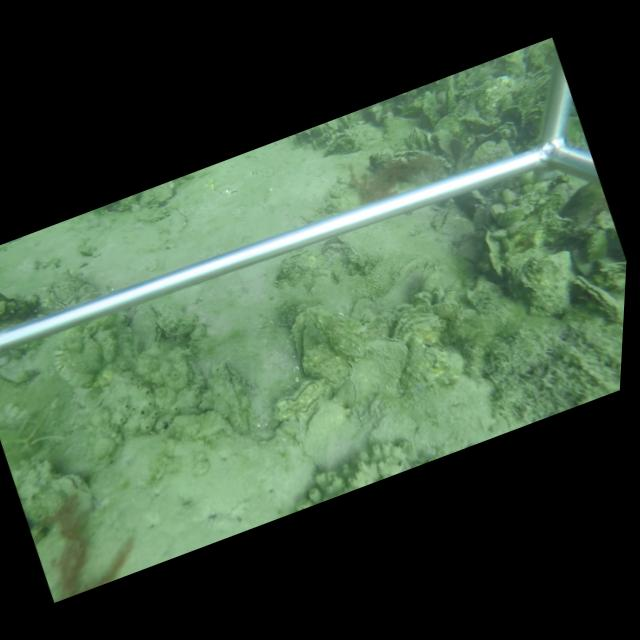Oyster-Closed: (209, 360, 254, 436), (273, 380, 337, 421), (572, 275, 624, 325), (392, 311, 449, 349), (134, 205, 173, 224), (154, 311, 182, 333), (148, 304, 162, 347), (383, 112, 393, 133)
Oyster-Indeterminate: (299, 315, 354, 390), (369, 146, 455, 185), (289, 301, 325, 373), (481, 227, 503, 280)
Oyster-Open: (324, 236, 365, 272)
